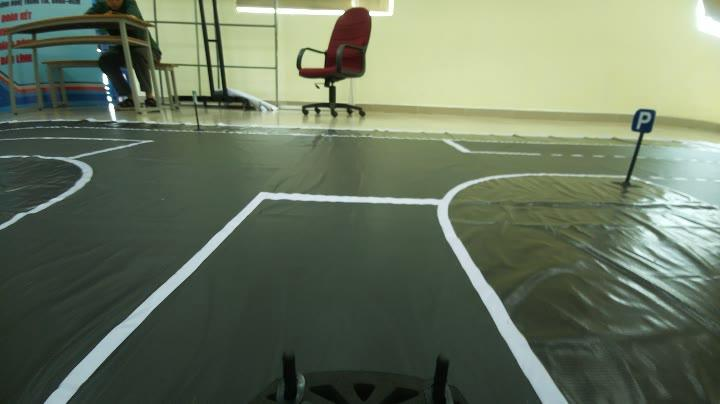parking: (628, 106, 659, 137)
